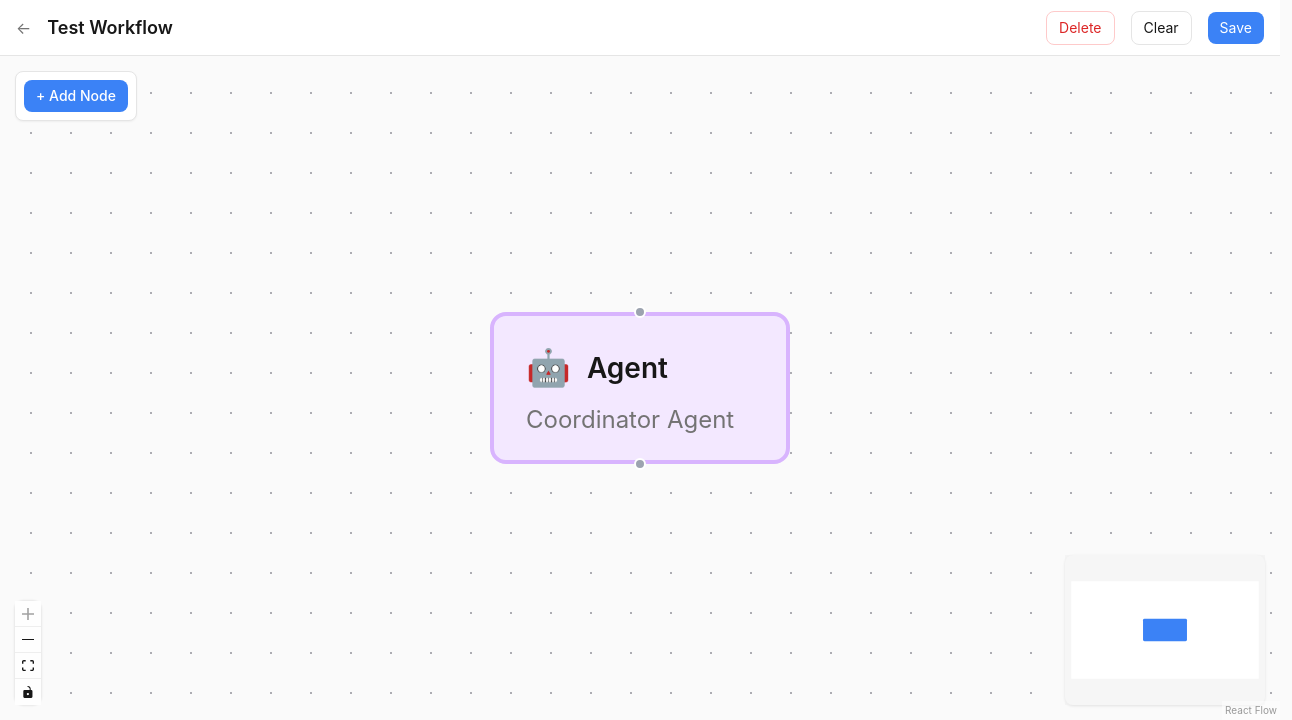
it: WorkflowEditPage › should show add panel when clicking Add Node
Click the button "+ Add Node" at point(76, 96), box [24,80,128,112]
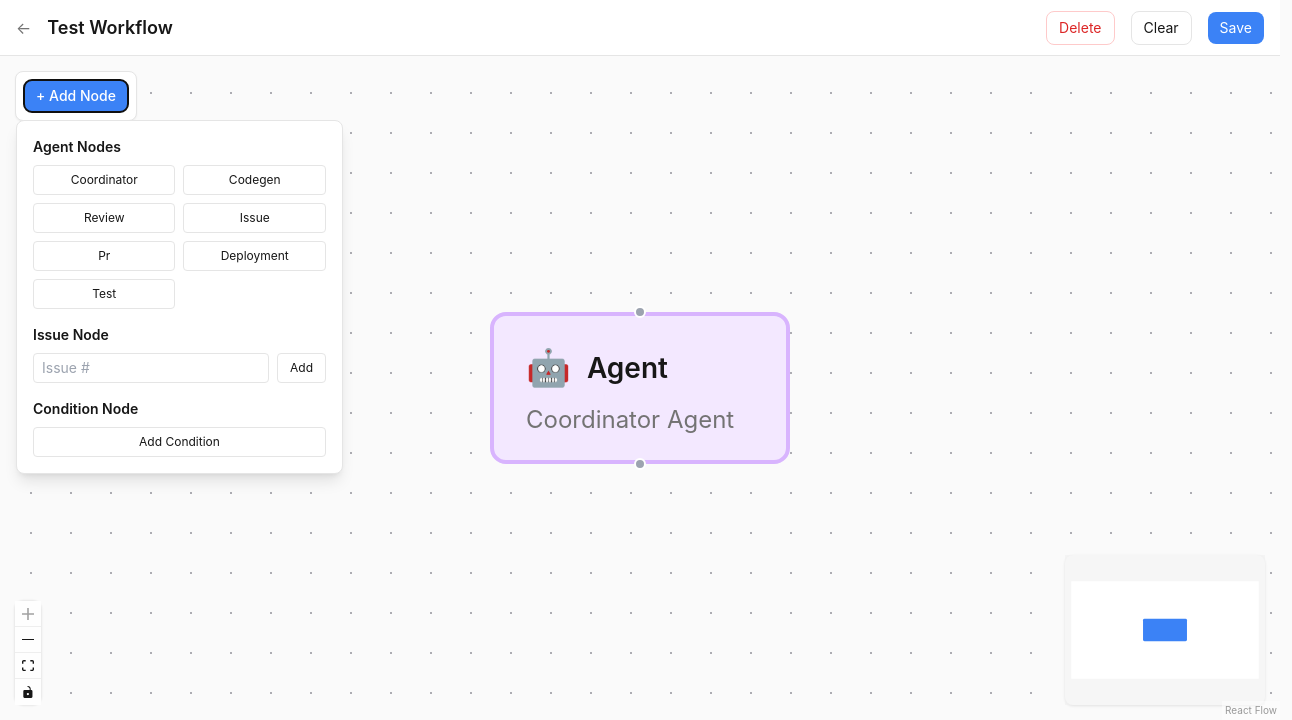
Expected: the heading "Agent Nodes" is shown, [33,138,121,155]
